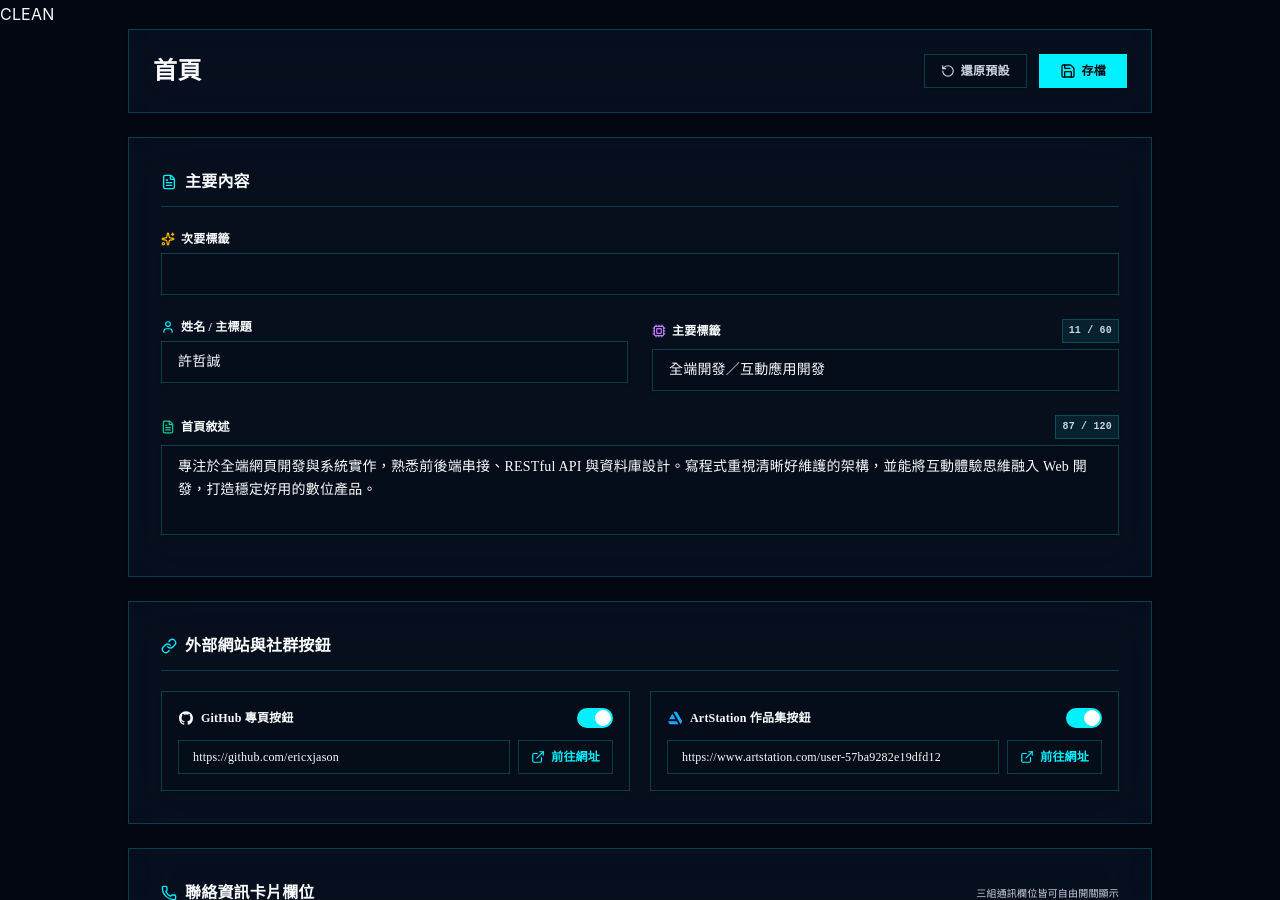
Scenario: CMS 編輯器按鈕流程與 Firebase 存檔串接單元測試 › 點擊「存檔」並確認後，應觸發雲端儲存 Toast 並將狀態重設為 CLEAN
In the field below "次要標籤": {"x": 640, "y": 274} x1=161 y1=253 x2=1119 y2=295, type "0999-888-777"
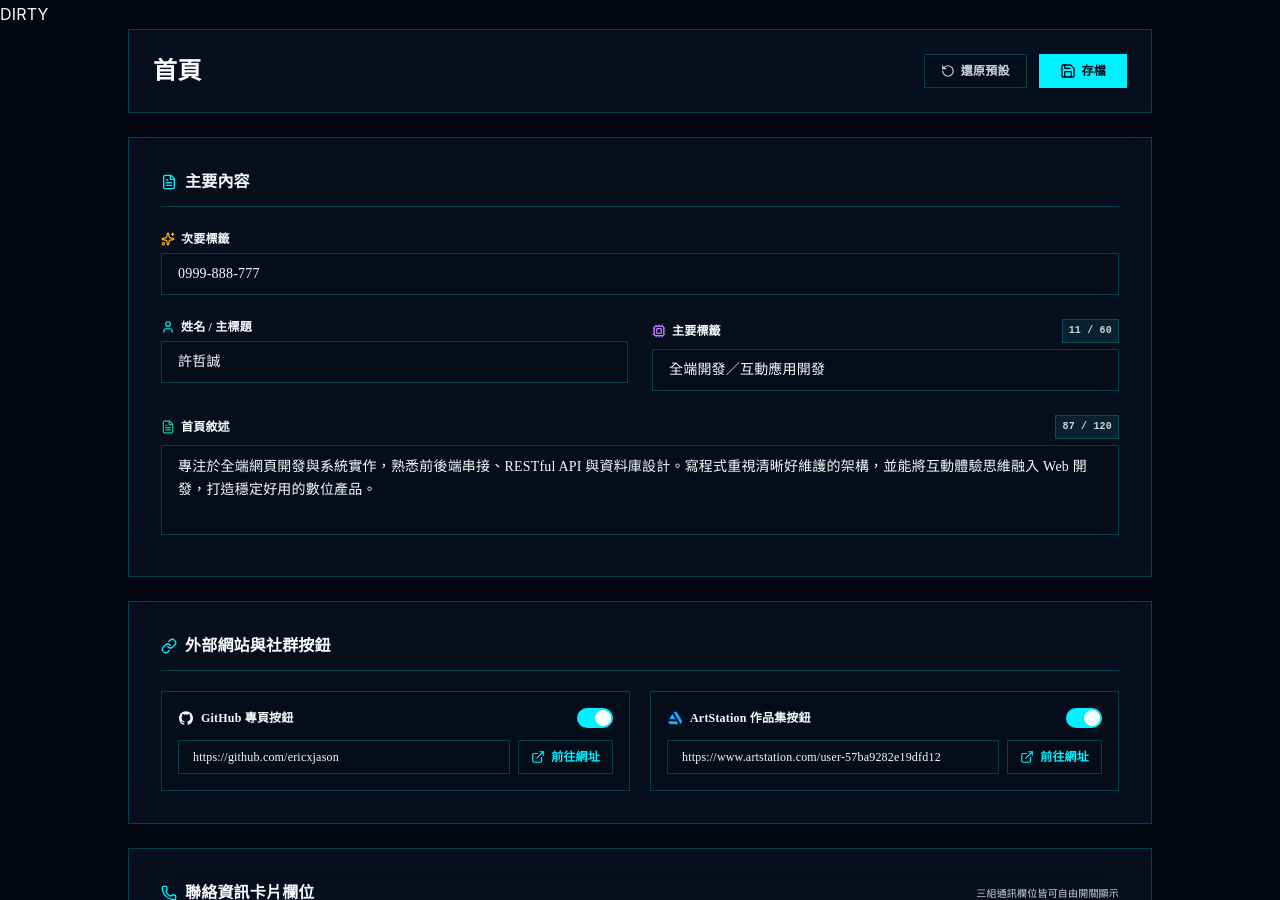
Click the button "存檔": {"x": 1083, "y": 71} x1=1039 y1=54 x2=1127 y2=88
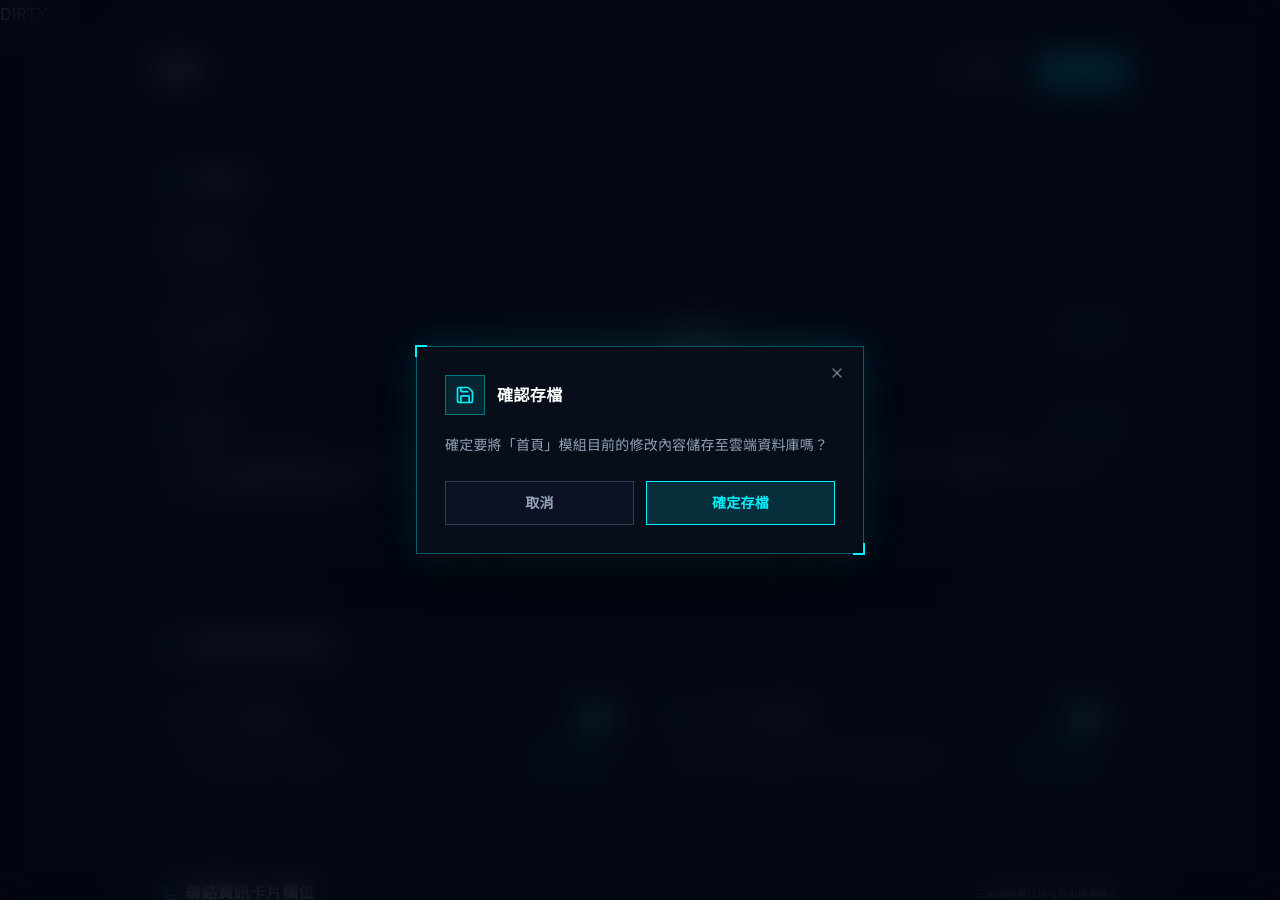
Note: 點擊彈窗中的「確定存檔」
Click the button "確定存檔": {"x": 740, "y": 503} x1=646 y1=481 x2=835 y2=525
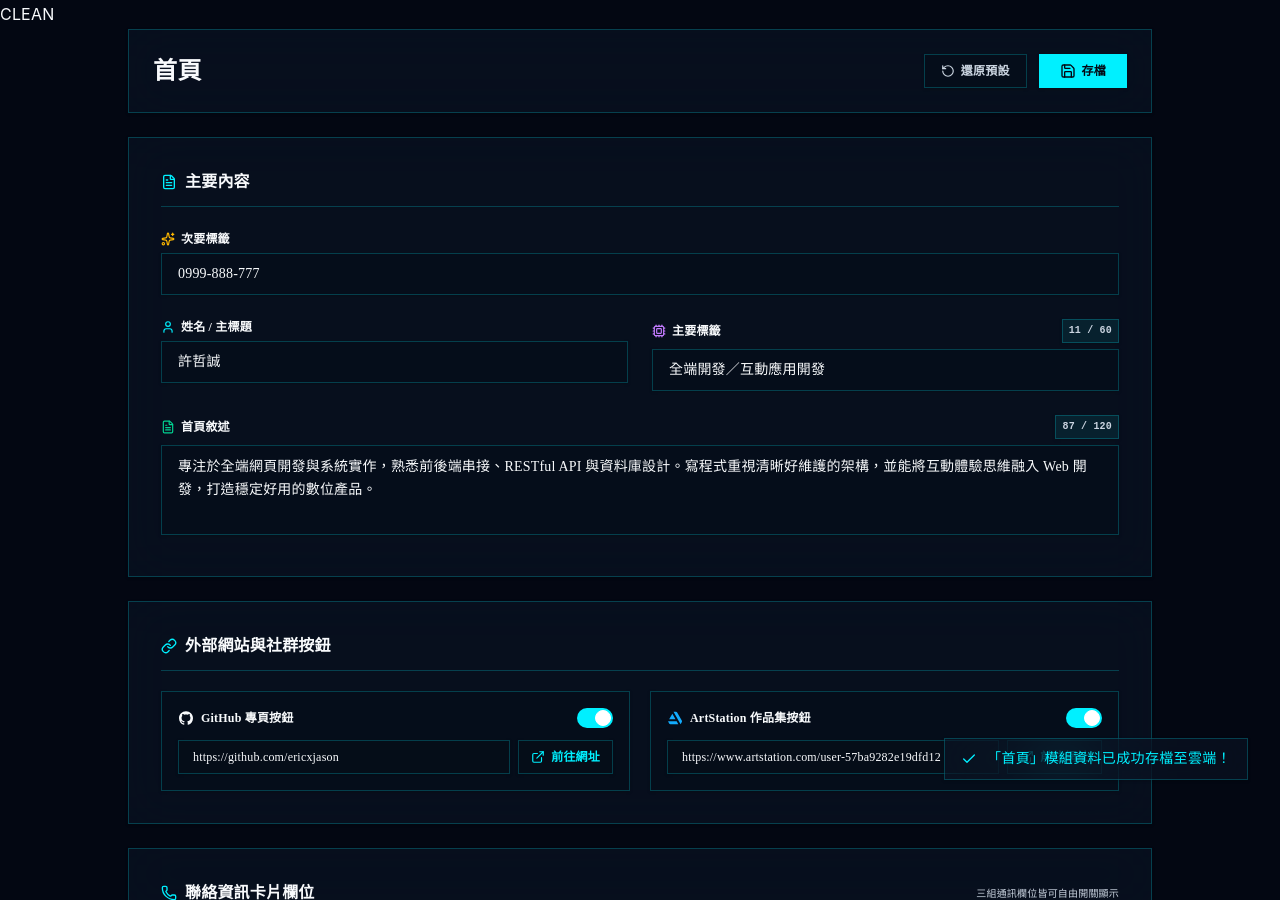
Check: the text "「首頁」模組資料已成功存檔至雲端！" is shown, box x1=987 y1=749 x2=1231 y2=769
Check: the text with test id "dirty-indicator" reads "CLEAN", box x1=0 y1=4 x2=54 y2=24
